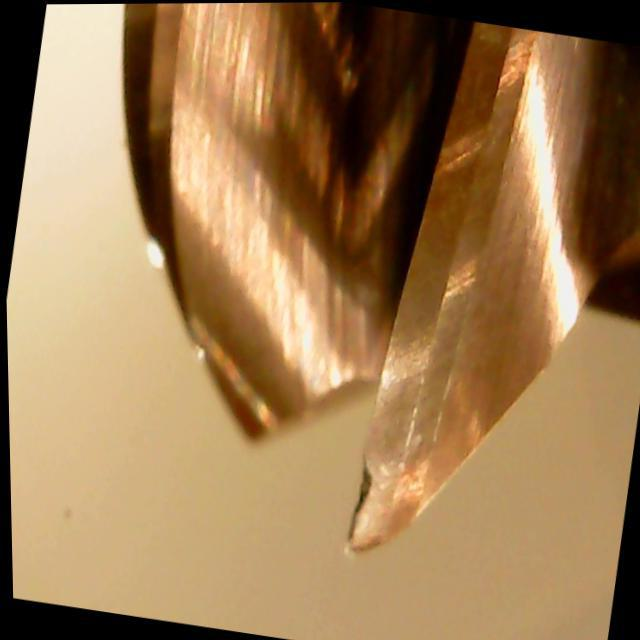Tool-wear-class-1: (325, 347, 468, 574)
